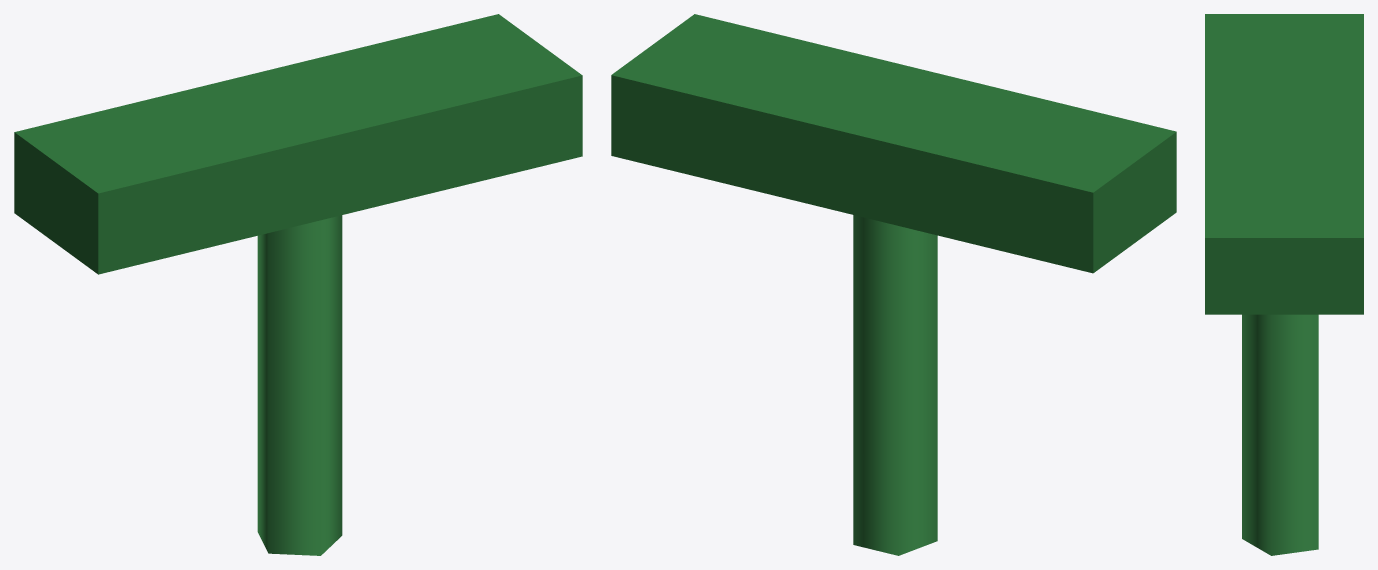
File: fern.glb
3 views of the same model, side by side, from view 1: azimuth 30°, elevation 25°; view 2: azimuth 150°, elevation 25°; view 3: azimuth 270°, elevation 25° (orthographic). The views are drawn at different scales.
Parts seen in each view (by area): view 1: fern; view 2: fern; view 3: fern.
Boxes of the visible parts, <box> form: fern: <box>14,14,582,555</box>; fern: <box>611,14,1176,555</box>; fern: <box>1205,14,1363,555</box>.
Bounding box in the file's own units: 0.5 × 0.43 × 0.15.
